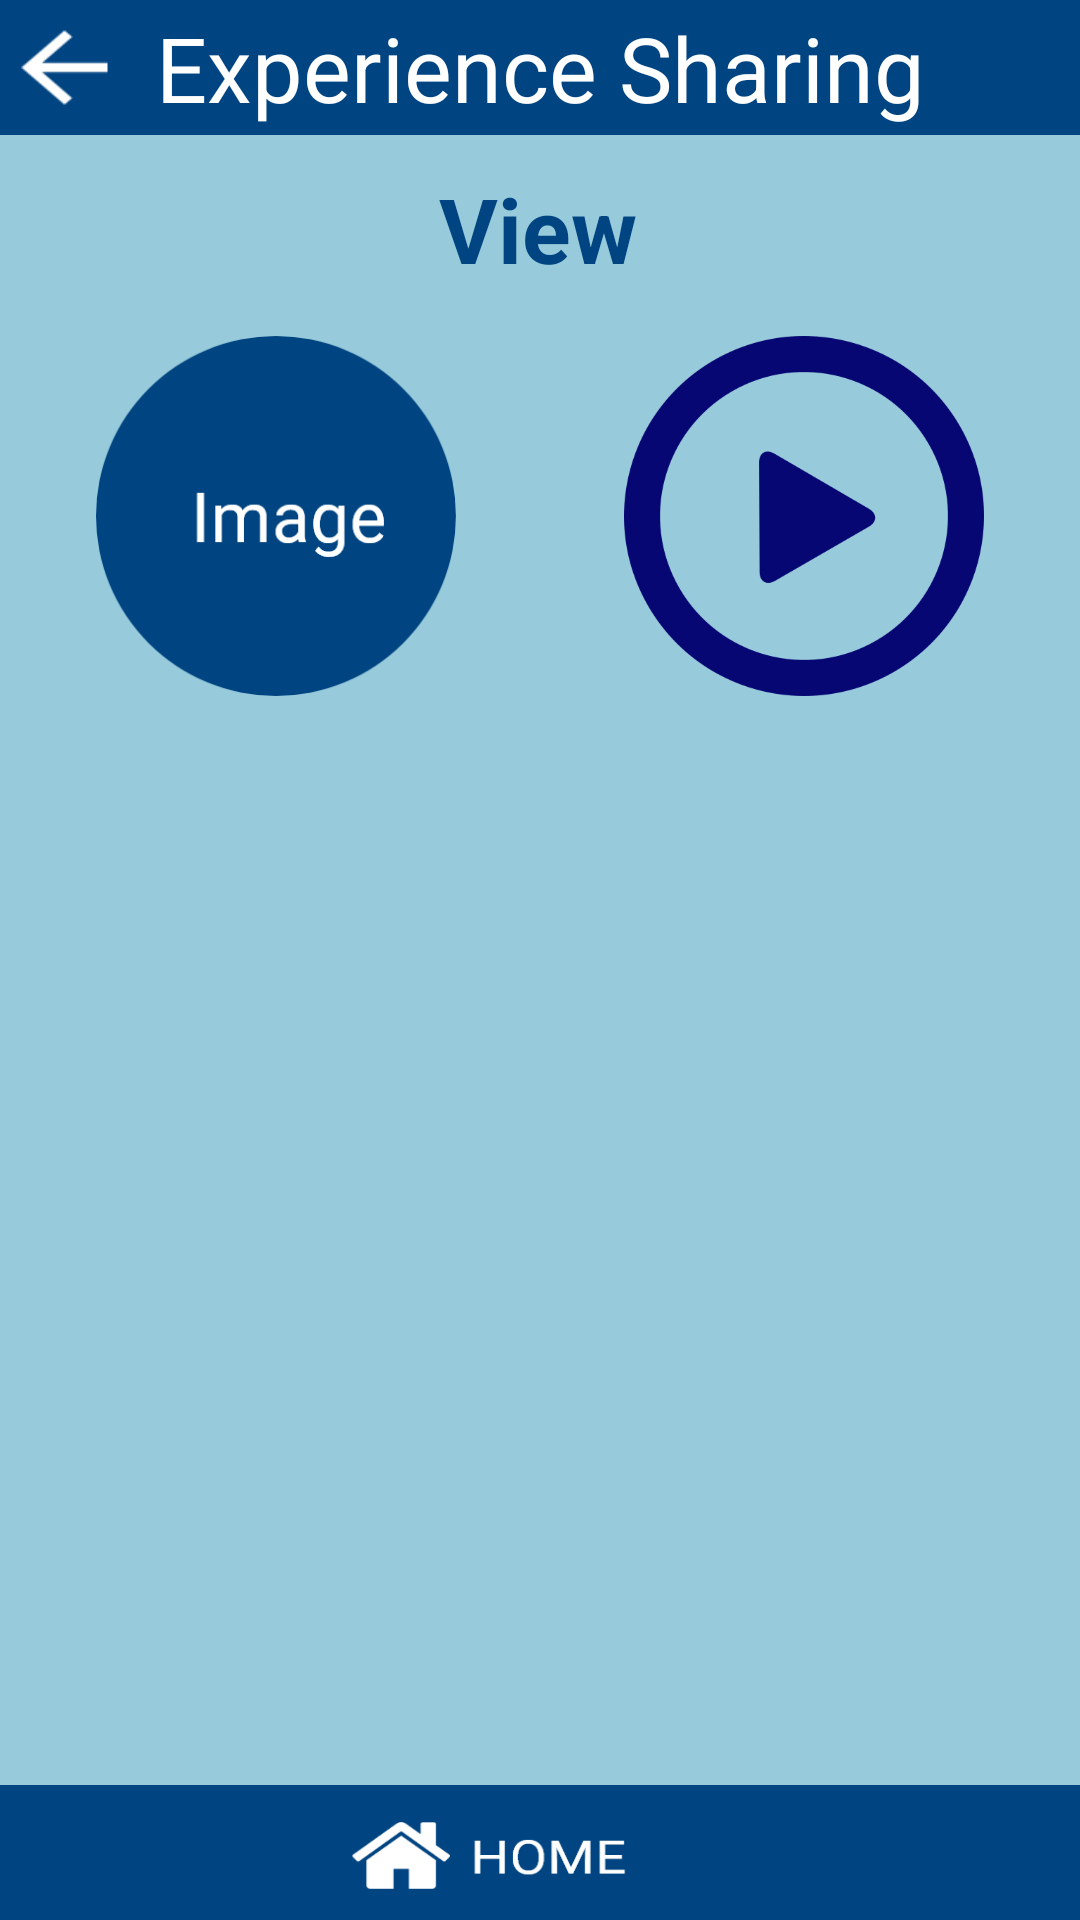

Icon bounding boxes for this 1080×1920 phone screenshot, format (x1, y1, x2, y2):
back: (21, 30, 108, 105)
vidoe: (624, 336, 984, 696)
